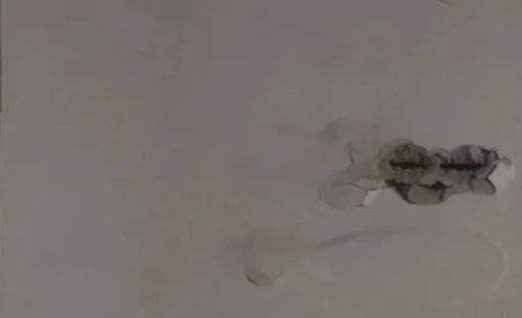Exposed reinforcement: (438, 161, 488, 171), (387, 160, 428, 172)
Spalling: (317, 138, 511, 211)
